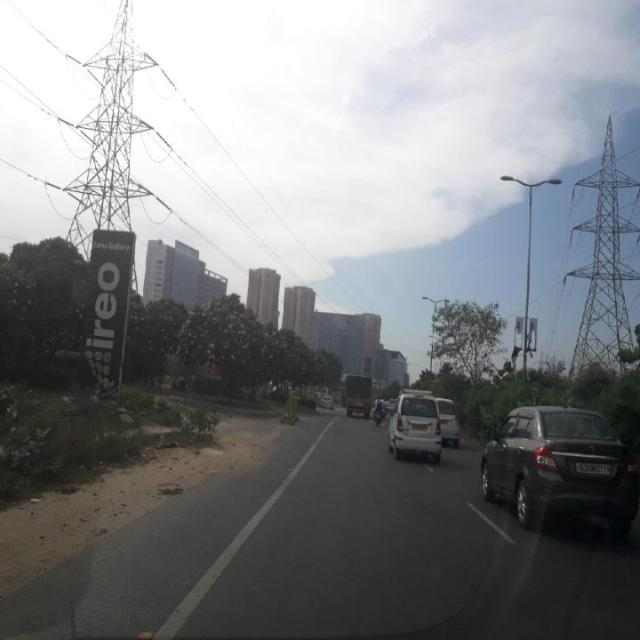D20: (216, 493, 477, 635)
